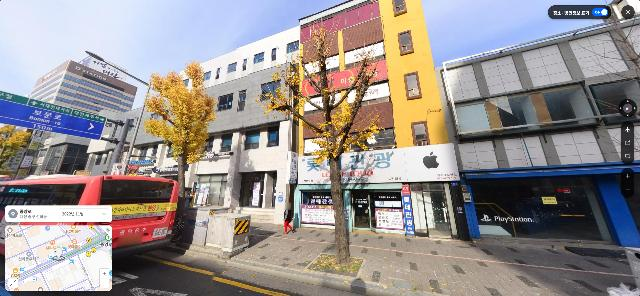ginkgo: (259, 23, 382, 264), (143, 61, 218, 248)
